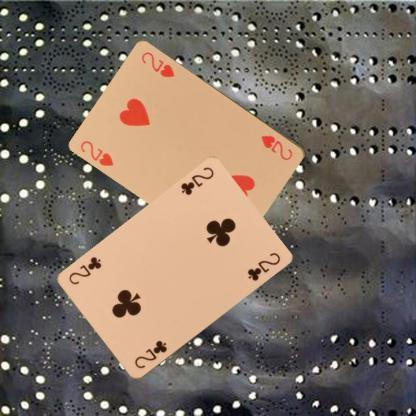2c: (178, 164, 216, 198), (132, 338, 168, 370)
2h: (78, 138, 116, 167), (259, 132, 295, 162)
